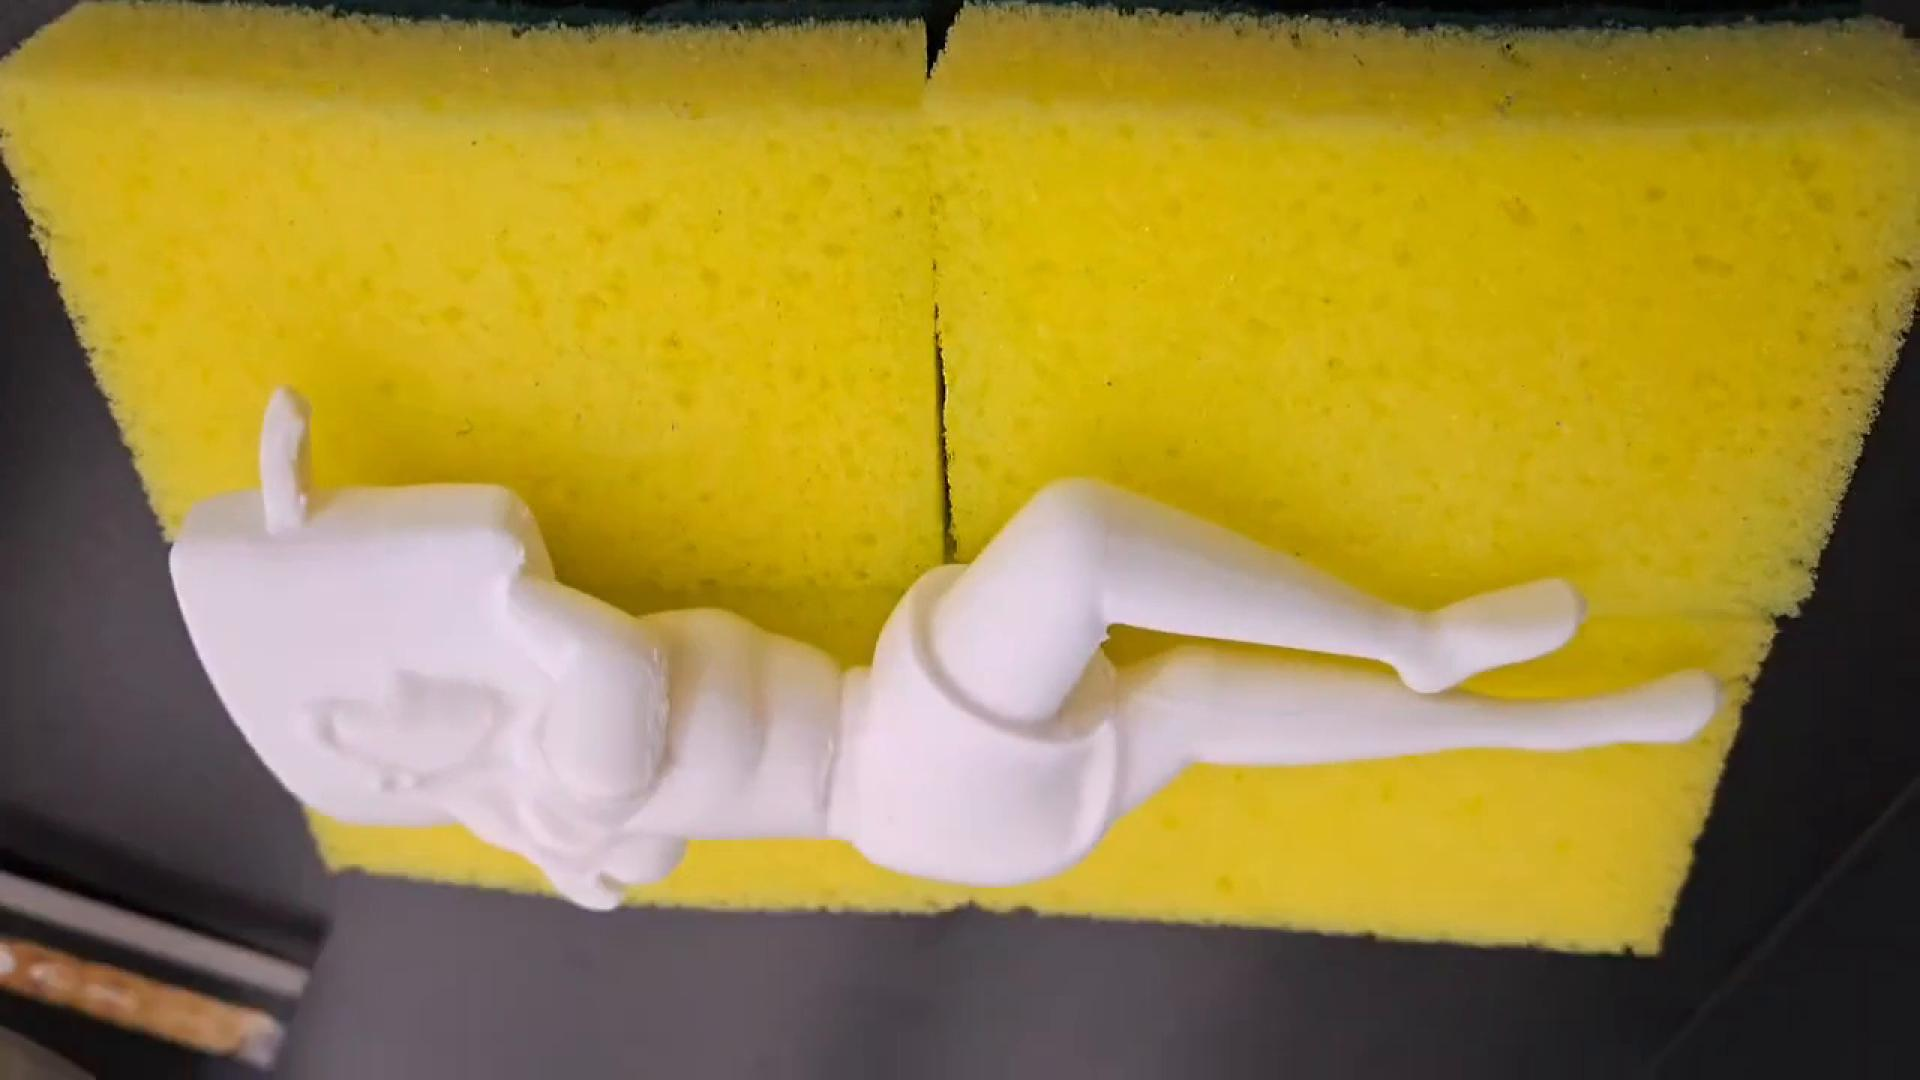Good-style: (170, 385, 1717, 932)
